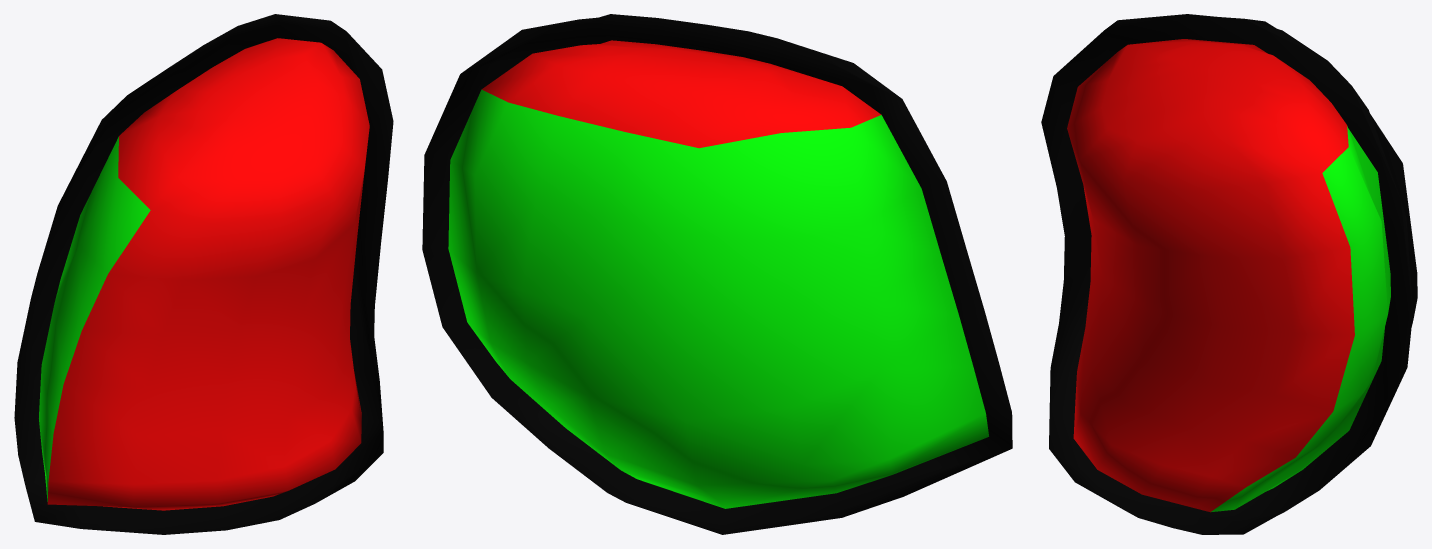
Rendered from butt.fbx.
The picture shows the model from 3 angles, left to right: view 1: azimuth 30°, elevation 25°; view 2: azimuth 150°, elevation 25°; view 3: azimuth 270°, elevation 25°; orthographic projection. The views are drawn at different scales.
Parts seen in each view (by area): view 1: Cube.003; view 2: Cube.003; view 3: Cube.003.
Part boxes in pixels (<box>): Cube.003: <box>14,14,393,534</box>; Cube.003: <box>422,14,1012,534</box>; Cube.003: <box>1041,14,1417,534</box>.
Size of the model in its own units: 102 by 98.4 by 70.42.
